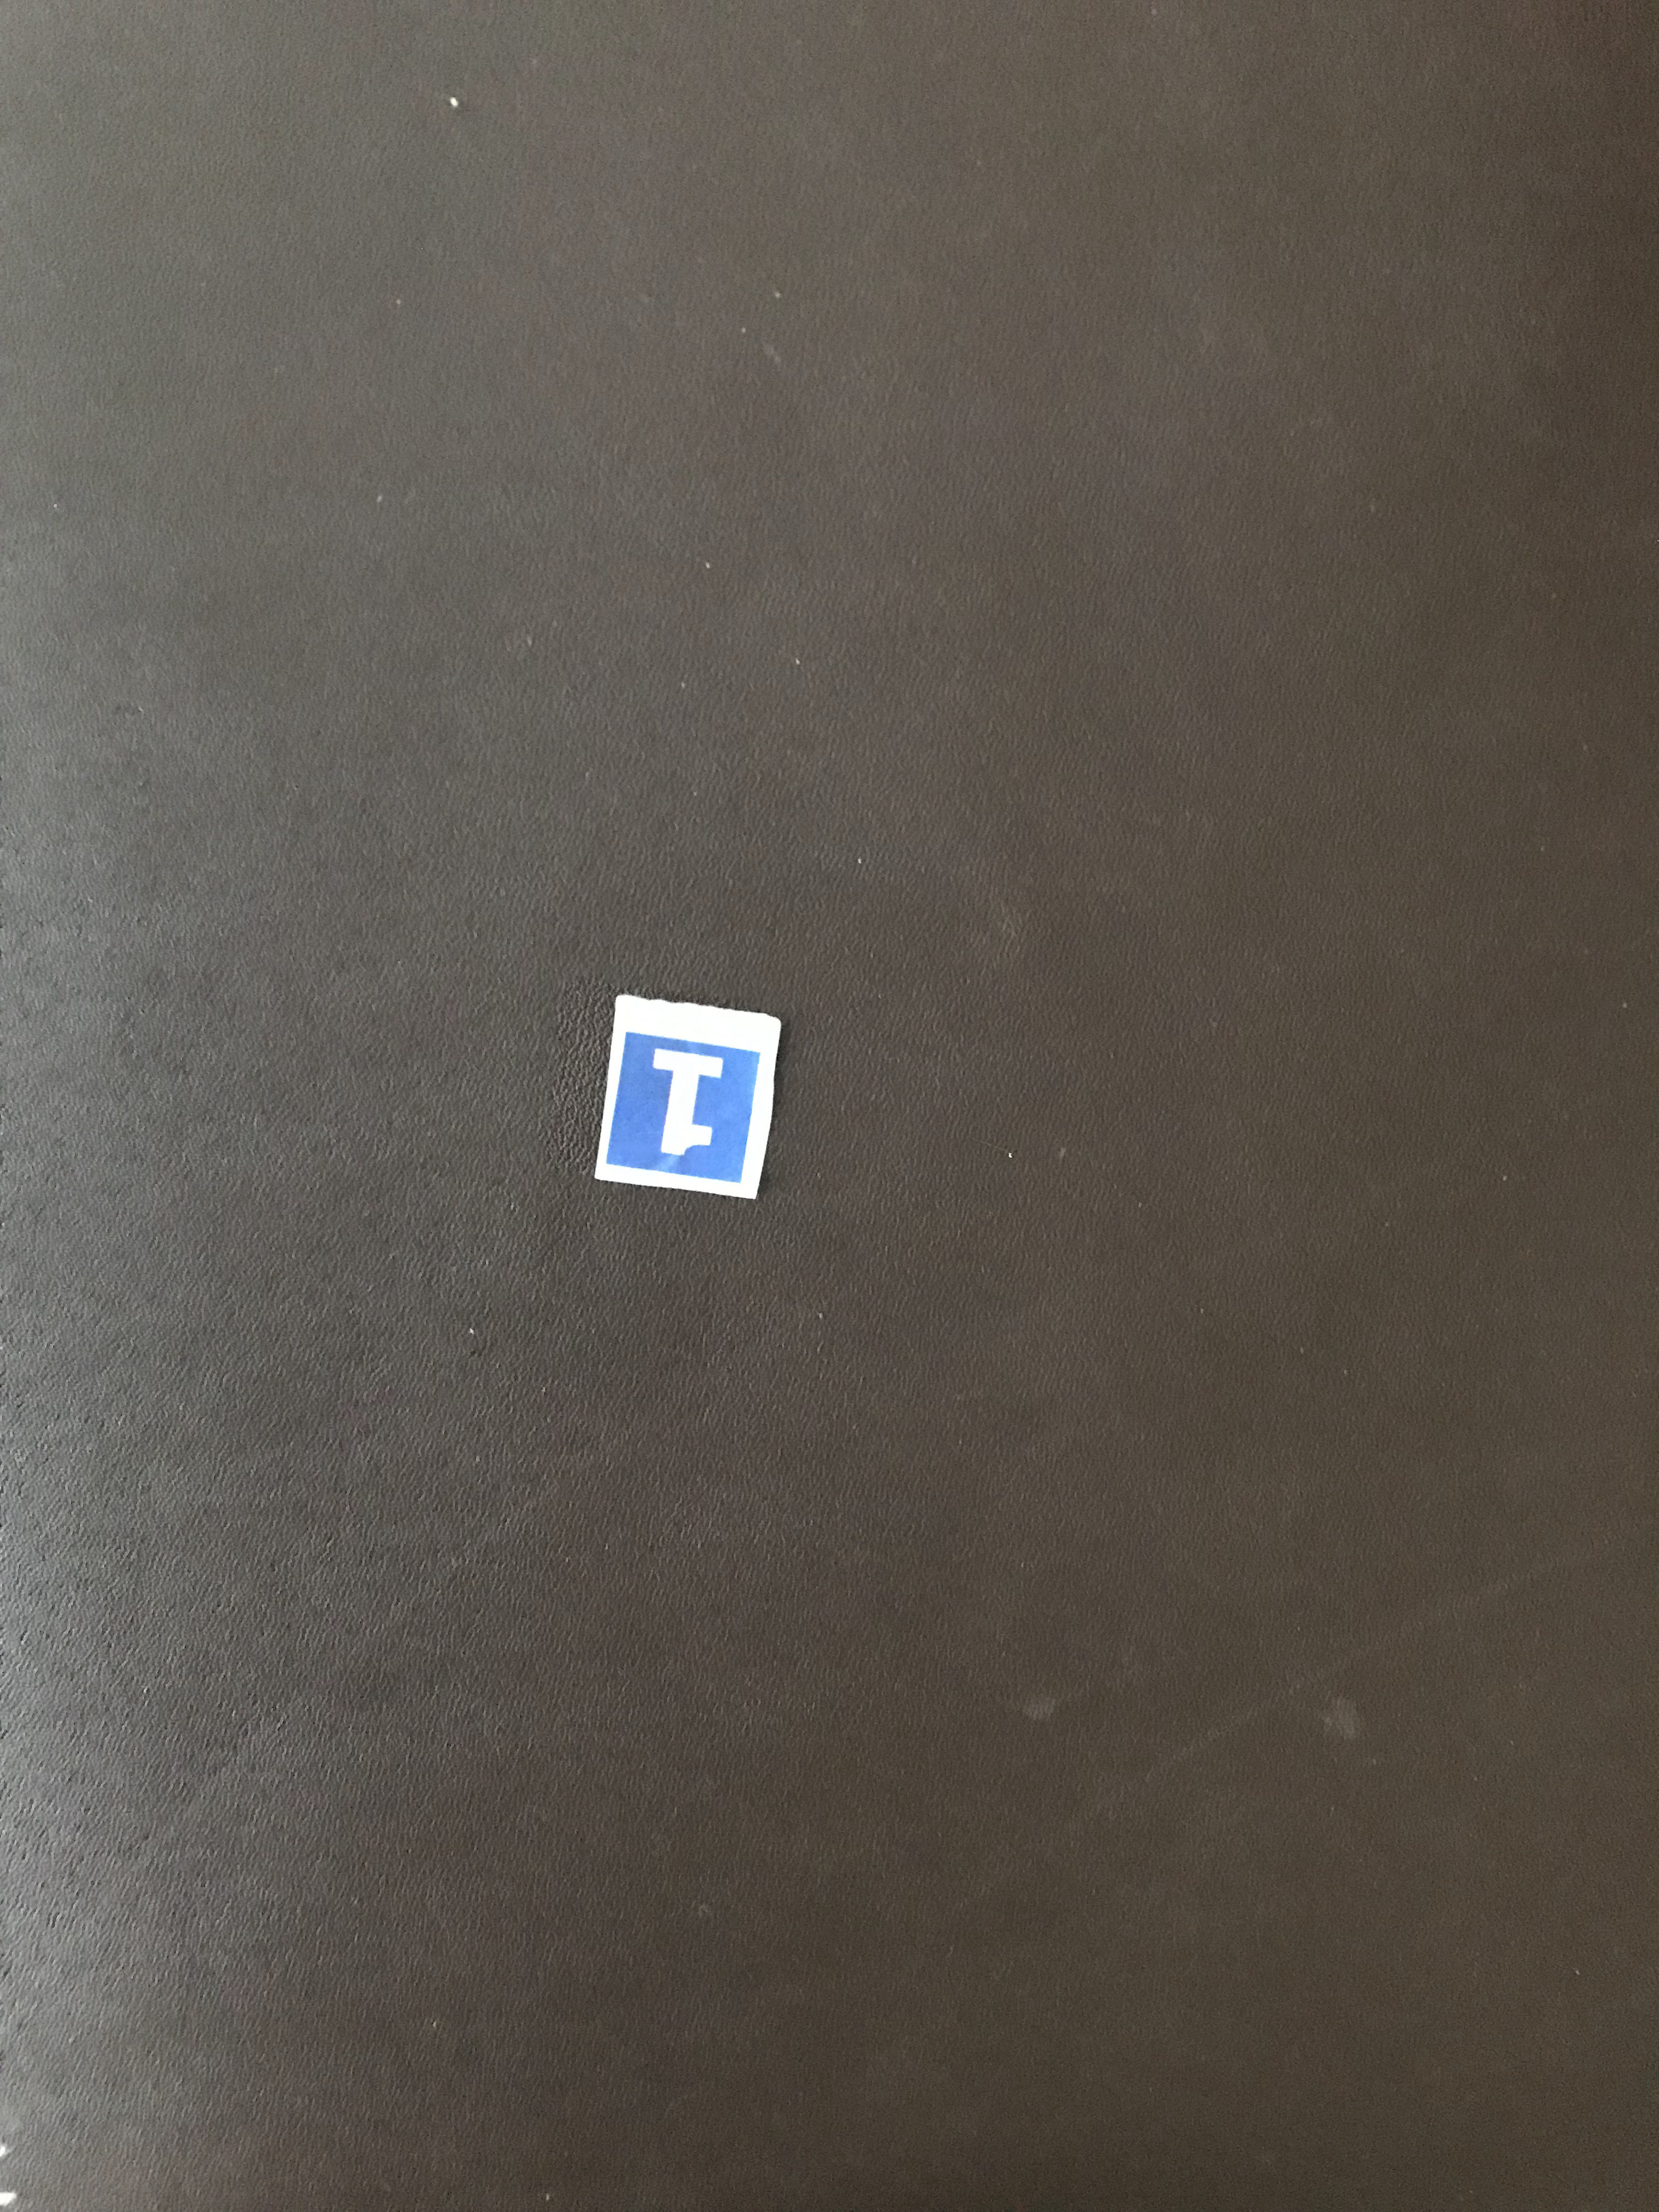blue marker: (570, 961, 814, 1244)
